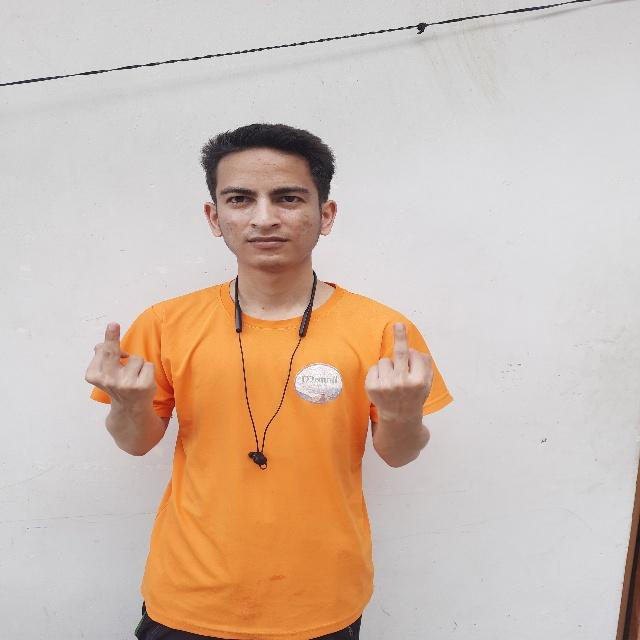Middle Finger: (82, 313, 162, 423), (362, 308, 438, 423)
